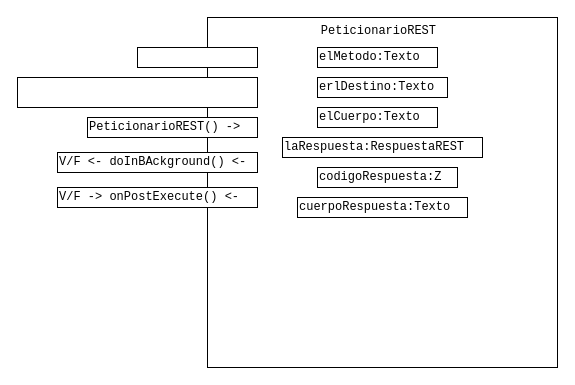
Some shapes in this 575 by 385 pixel diagram are drawn without their labels. The box of each missing label's shape, as (x1, y1, x2, y2) in pixels:
RespuestaREST(): (136, 46, 258, 68)
Texto,Texto,Texto,RespuestaREST -> hacerPeticionREST () <-: (16, 76, 258, 108)
